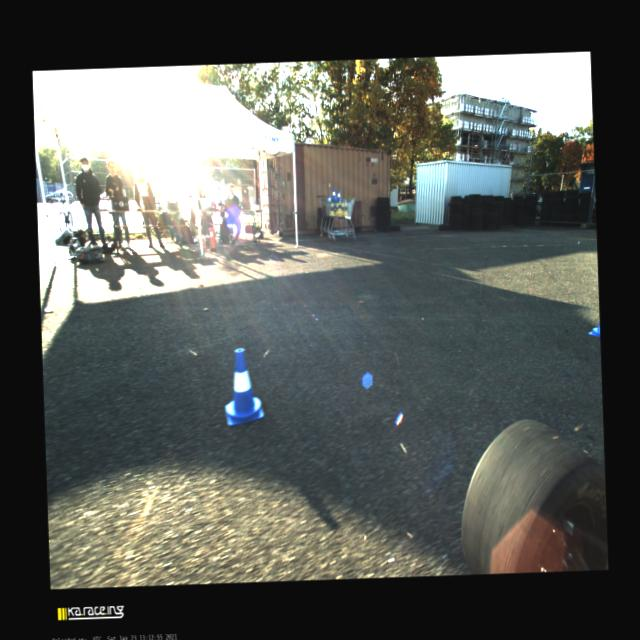blue_cone: (222, 346, 265, 426), (336, 190, 342, 201), (331, 188, 336, 201), (327, 194, 331, 204)
yellow_cone: (336, 201, 342, 217), (329, 202, 334, 216), (343, 202, 347, 217), (341, 202, 345, 216), (335, 203, 339, 215)
